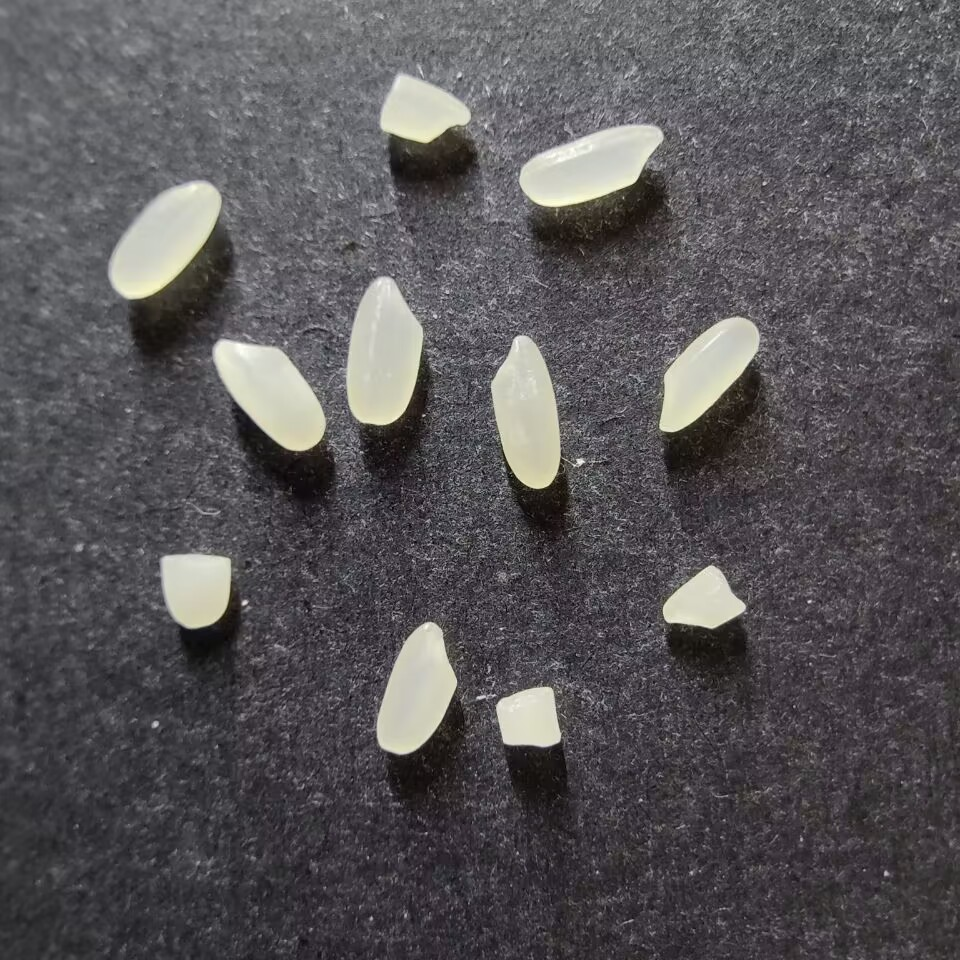broken: (380, 74, 470, 143), (662, 563, 746, 629), (159, 552, 231, 628), (495, 686, 562, 748)
rice: (107, 181, 221, 298), (212, 338, 326, 451), (518, 123, 663, 207), (658, 316, 760, 433), (346, 276, 423, 425), (375, 622, 458, 754), (490, 335, 561, 489)
